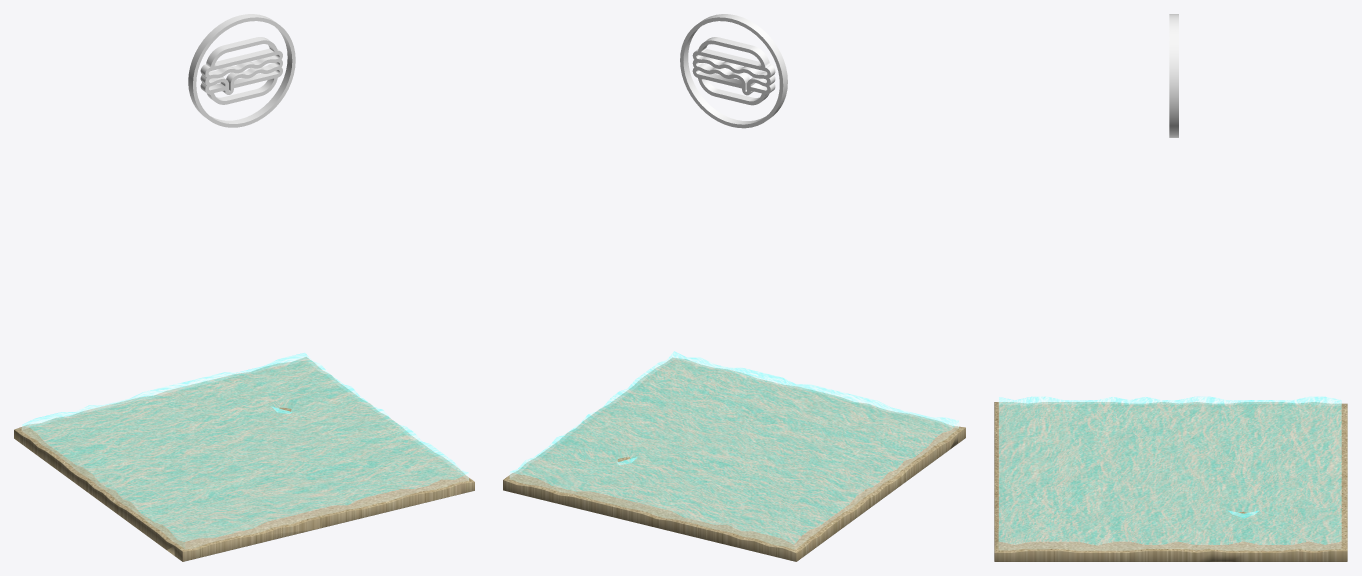
The model's file is water-lower-burger-trans1.glb.
The picture shows the model from 3 angles, left to right: view 1: azimuth 30°, elevation 25°; view 2: azimuth 150°, elevation 25°; view 3: azimuth 270°, elevation 25°; orthographic projection. The views are drawn at different scales.
Visible parts, largest first — view 1: Sand, Plane.002_1, Curve.014, Plane.002_0; view 2: Sand, Plane.002_1, Curve.014, Plane.002_0; view 3: Sand, Plane.002_1, Plane.002_0, Curve.014.
Part boxes in pixels (box(x1,y1,x2,y2)): Sand: box(14, 357, 474, 561); Plane.002_1: box(22, 353, 468, 541); Curve.014: box(188, 14, 295, 127); Plane.002_0: box(21, 425, 468, 548); Sand: box(503, 358, 965, 561); Plane.002_1: box(510, 351, 958, 544); Curve.014: box(680, 14, 787, 128); Plane.002_0: box(509, 421, 959, 549); Sand: box(994, 402, 1347, 561); Plane.002_1: box(998, 396, 1341, 545); Plane.002_0: box(998, 397, 1341, 550); Curve.014: box(1169, 14, 1178, 137).
Size of the model in its own units: 107 by 156 by 107.
Materials: 4 (2 with a texture image).
